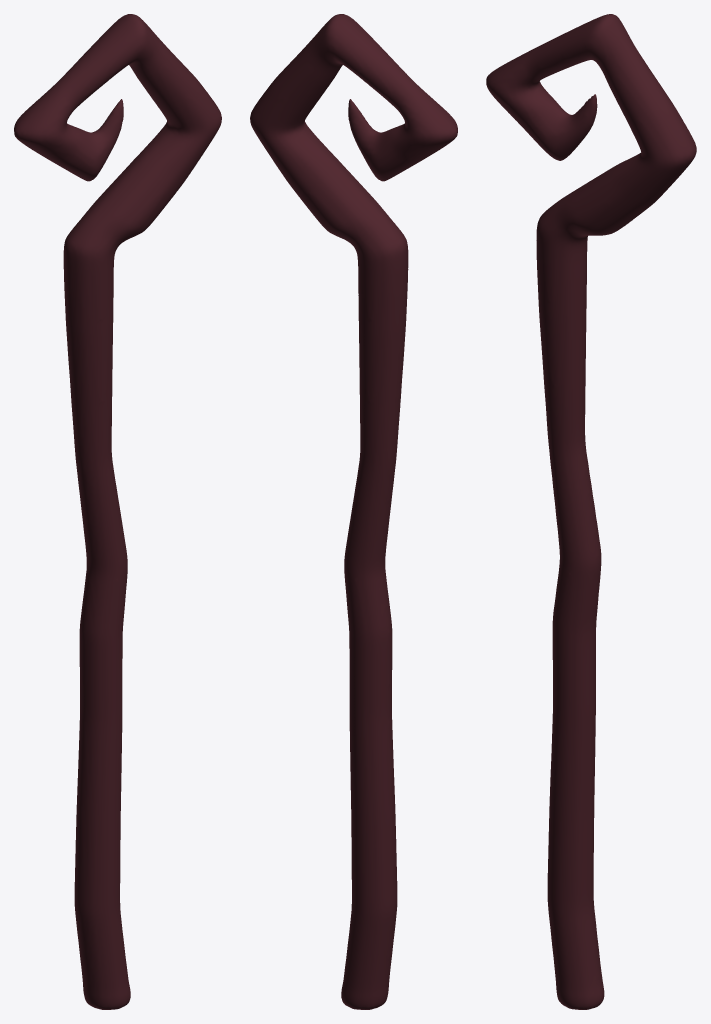
File: staff.fbx
The picture shows the model from 3 angles, left to right: view 1: azimuth 30°, elevation 25°; view 2: azimuth 150°, elevation 25°; view 3: azimuth 330°, elevation 25°; orthographic projection.
Visible parts, largest first — view 1: Cylinder.001; view 2: Cylinder.001; view 3: Cylinder.001.
Boxes of the visible parts, <box> form: Cylinder.001: <box>14,14,221,1009</box>; Cylinder.001: <box>250,14,457,1009</box>; Cylinder.001: <box>486,14,696,1009</box>.
Bounding box in the file's own units: 542 × 2507 × 134.
